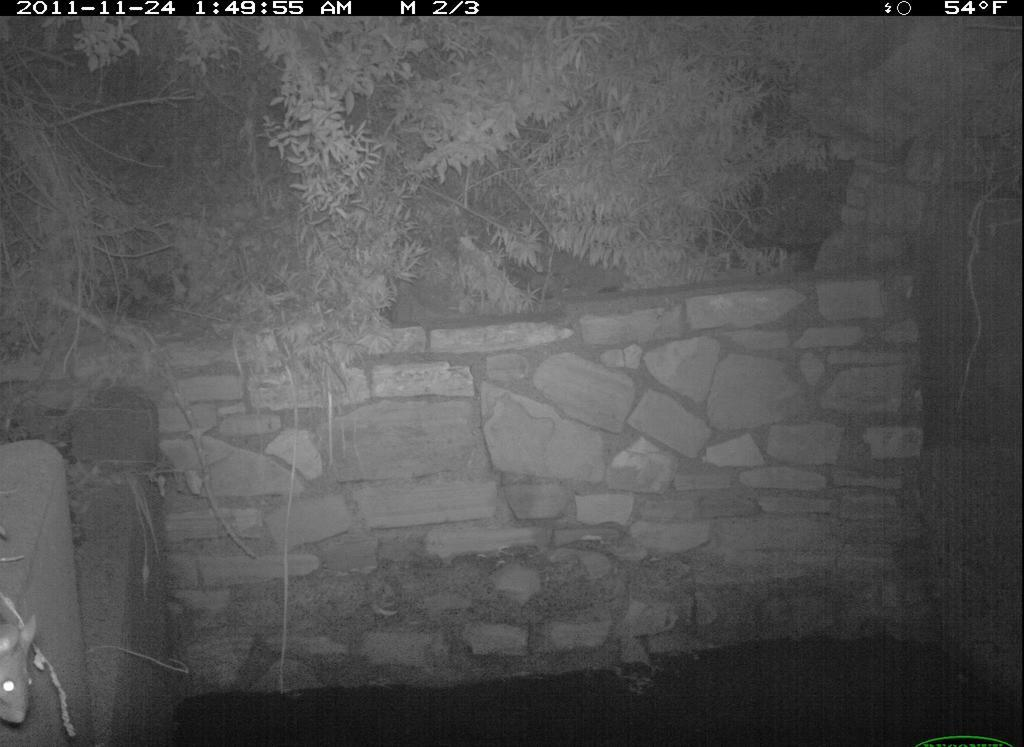rodent: (2, 610, 47, 738)
